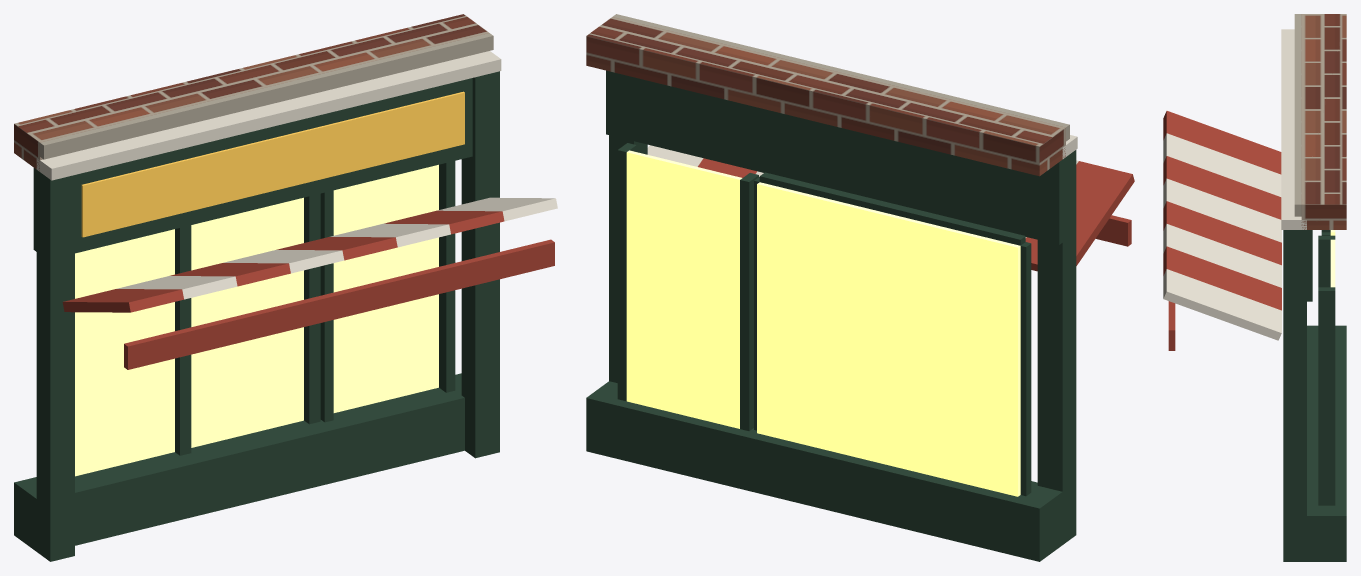
The model's file is ct_shop_r.glb.
3 renders of one model, left to right at view 1: azimuth 30°, elevation 25°; view 2: azimuth 150°, elevation 25°; view 3: azimuth 270°, elevation 25°, orthographic. The views are drawn at different scales.
Parts seen in each view (by area): view 1: city_ct_shop_r; view 2: city_ct_shop_r; view 3: city_ct_shop_r.
Part boxes in pixels (x1,y1,x2,y2): city_ct_shop_r: [14, 14, 557, 561]; city_ct_shop_r: [586, 14, 1134, 561]; city_ct_shop_r: [1163, 14, 1346, 561].
Size of the model in its own units: 4 by 3.5 by 1.63.
2 materials, 2 textured.
